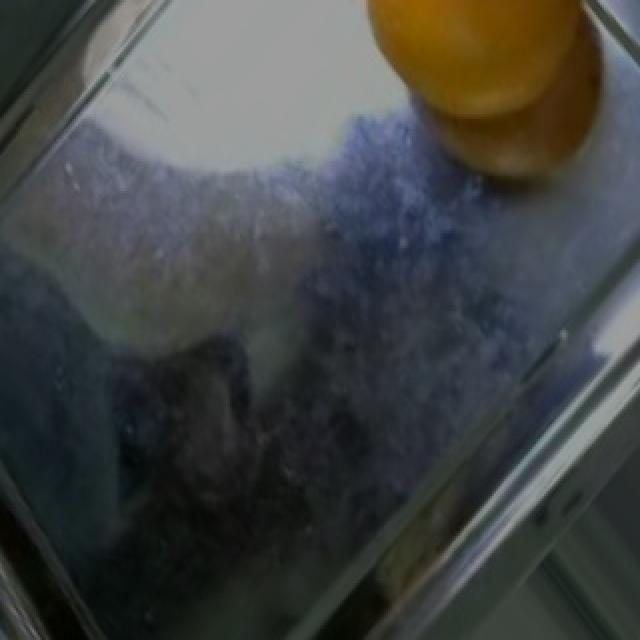Fruit: (350, 0, 632, 208)
